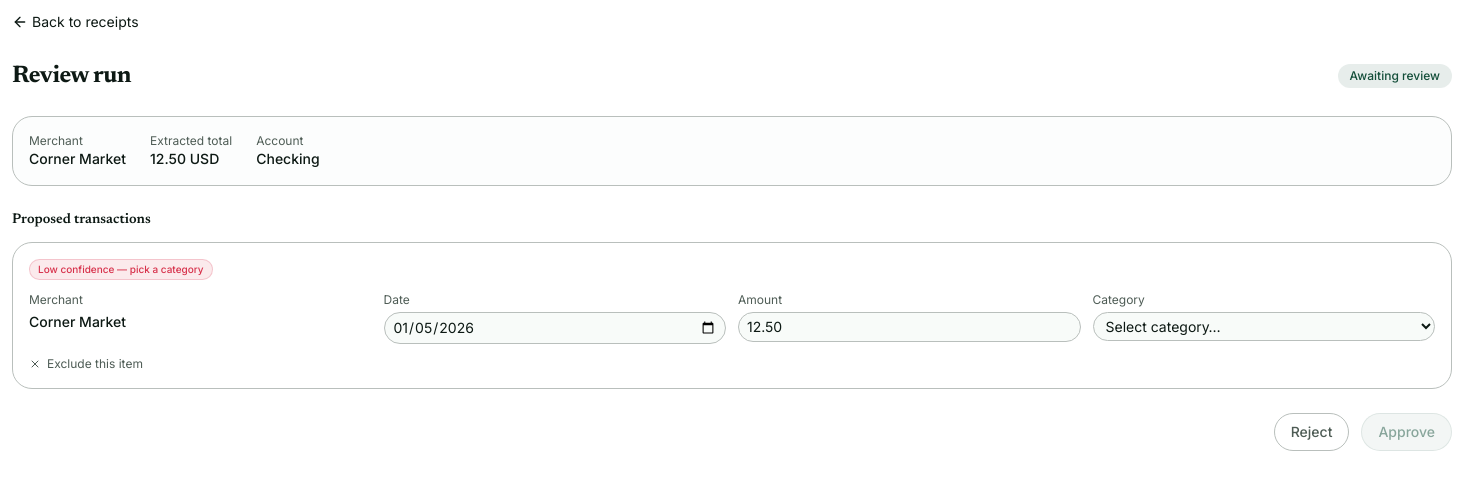
Test: ReceiptRunDetailPage › surfaces an error and lets the user retry after a failed decision
The image size is (1464, 478).
Select "Groceries" in the dropdown showing "Select category…": coordinates (1264, 326) x1=1092 y1=312 x2=1435 y2=341
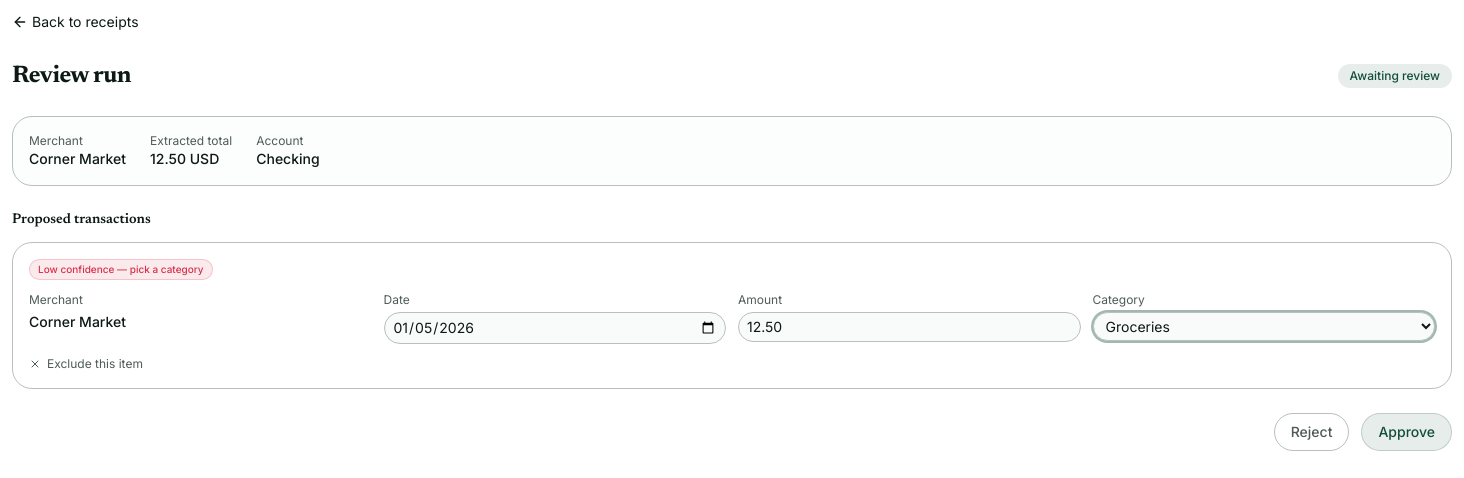
Click the button "Approve": coordinates (1407, 432) x1=1361 y1=413 x2=1452 y2=451
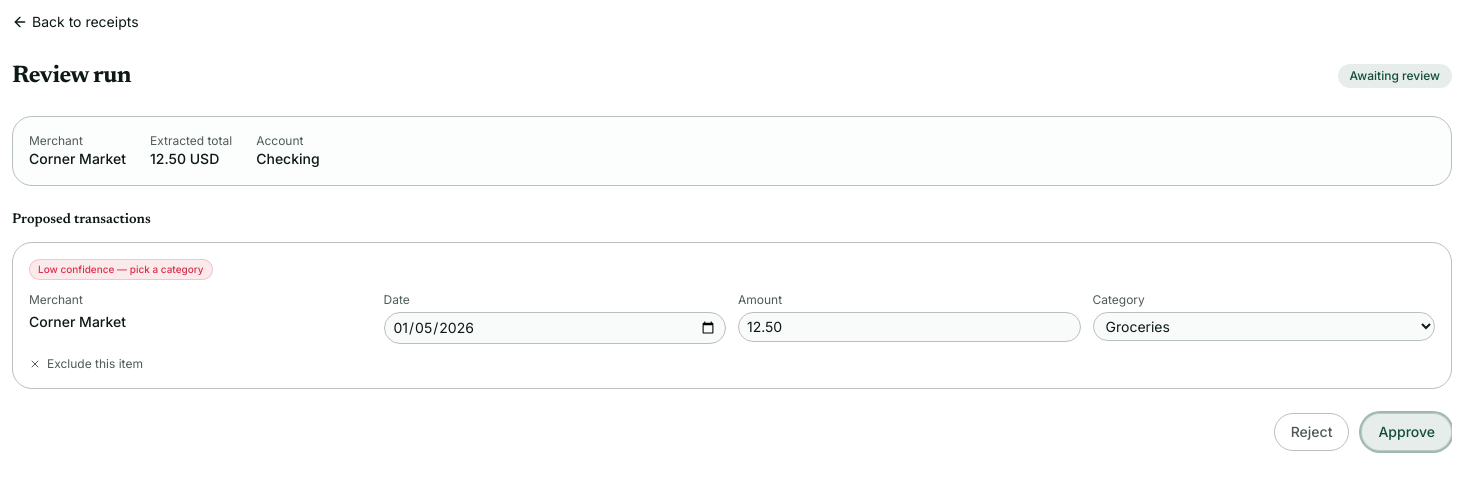
Result: the button "Approve" is enabled
Click the button "Approve": coordinates (1407, 432) x1=1361 y1=413 x2=1452 y2=451
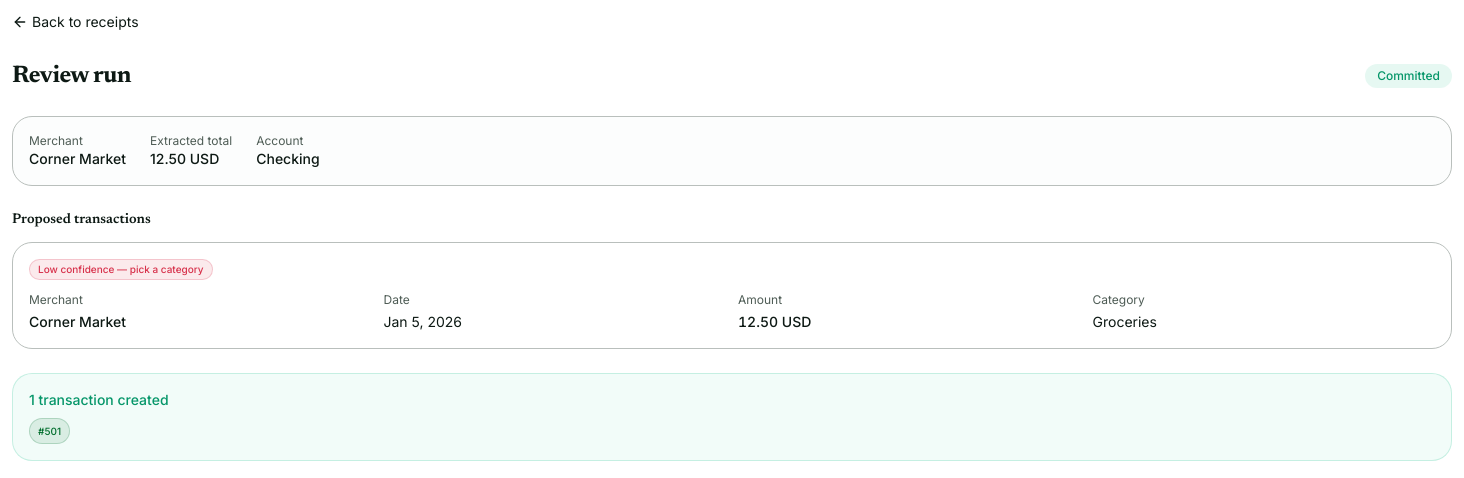
Result: the text "1 transaction created" is shown at x1=29 y1=391 x2=168 y2=408
